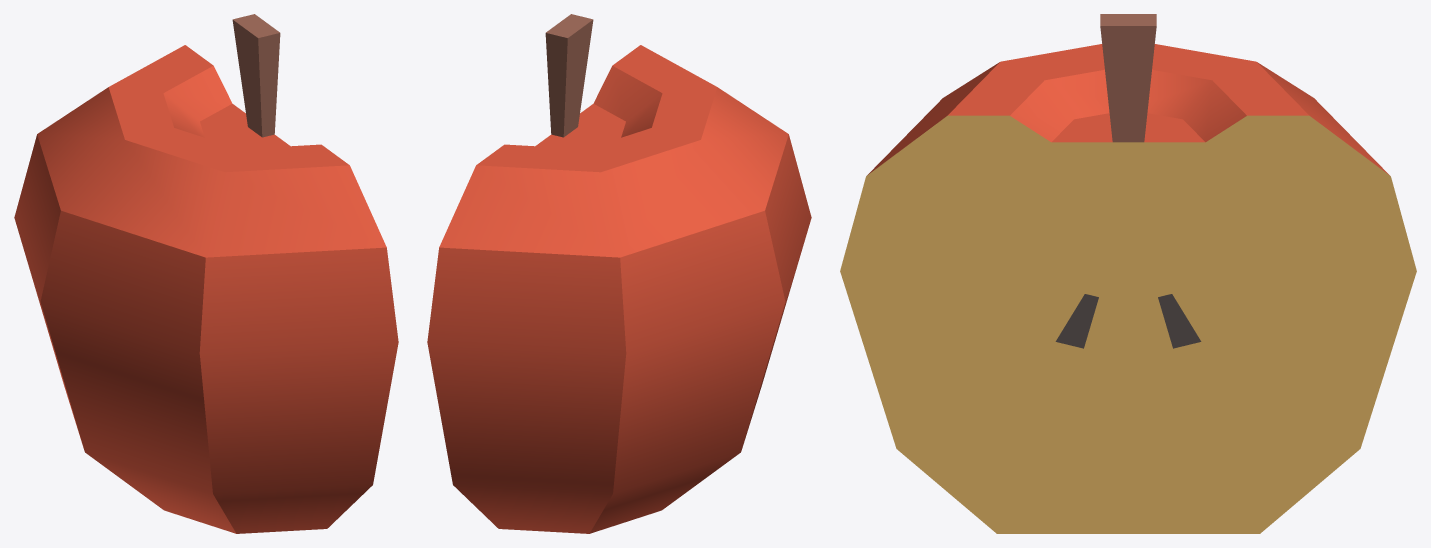
The model's file is apple.fbx.
3 views of the same model, side by side, from view 1: azimuth 30°, elevation 25°; view 2: azimuth 150°, elevation 25°; view 3: azimuth 270°, elevation 25° (orthographic). The views are drawn at different scales.
Parts seen in each view (by area): view 1: appleHalf; view 2: appleHalf; view 3: appleHalf.
Part boxes in pixels (x1=…): appleHalf: x1=14, y1=14, x2=398, y2=533; appleHalf: x1=427, y1=14, x2=811, y2=533; appleHalf: x1=840, y1=14, x2=1416, y2=533.
Size of the model in its own units: 0.235 by 0.4568 by 0.47.
